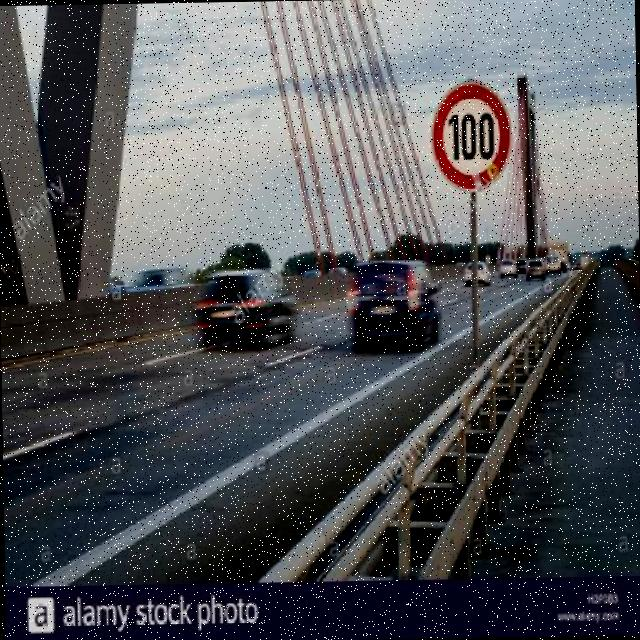Ograniczenie predkosci do 100: (428, 80, 515, 198)
